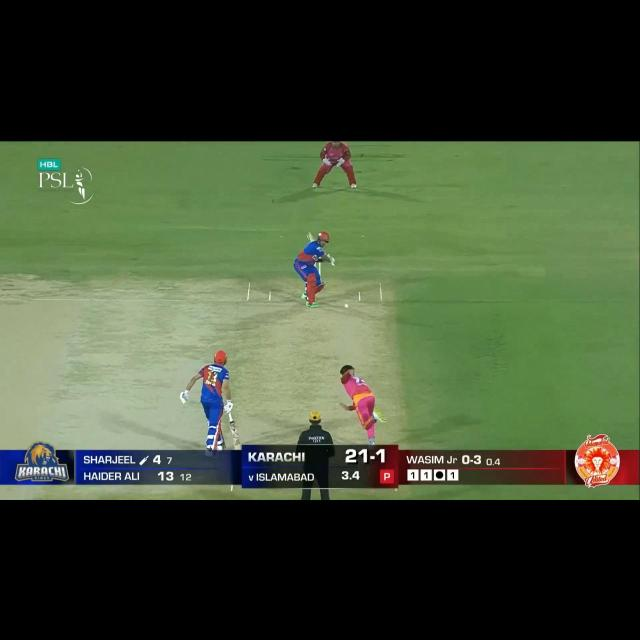bat: (226, 419, 241, 449), (307, 232, 315, 242)
toe: (306, 230, 315, 240), (235, 444, 242, 450)
